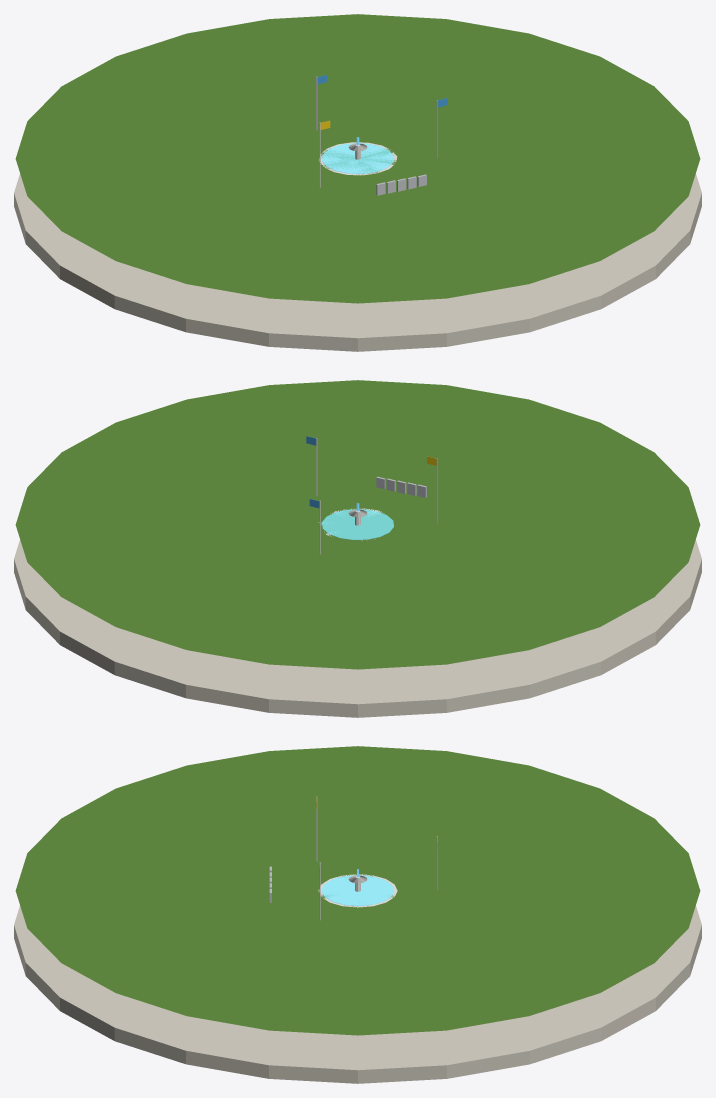
The model's file is rb_fountain1.glb.
3 renders of one model, top to bottom at view 1: azimuth 30°, elevation 25°; view 2: azimuth 150°, elevation 25°; view 3: azimuth 270°, elevation 25°, orthographic.
Visible parts, largest first — view 1: rb_fountain1_lod0; view 2: rb_fountain1_lod0; view 3: rb_fountain1_lod0.
Boxes of the visible parts, x1=… form: rb_fountain1_lod0: x1=14, y1=14, x2=701, y2=351; rb_fountain1_lod0: x1=14, y1=380, x2=701, y2=717; rb_fountain1_lod0: x1=14, y1=746, x2=701, y2=1083.
Size of what is drawn, in the model's own units: 86.8 by 15.72 by 86.8.
